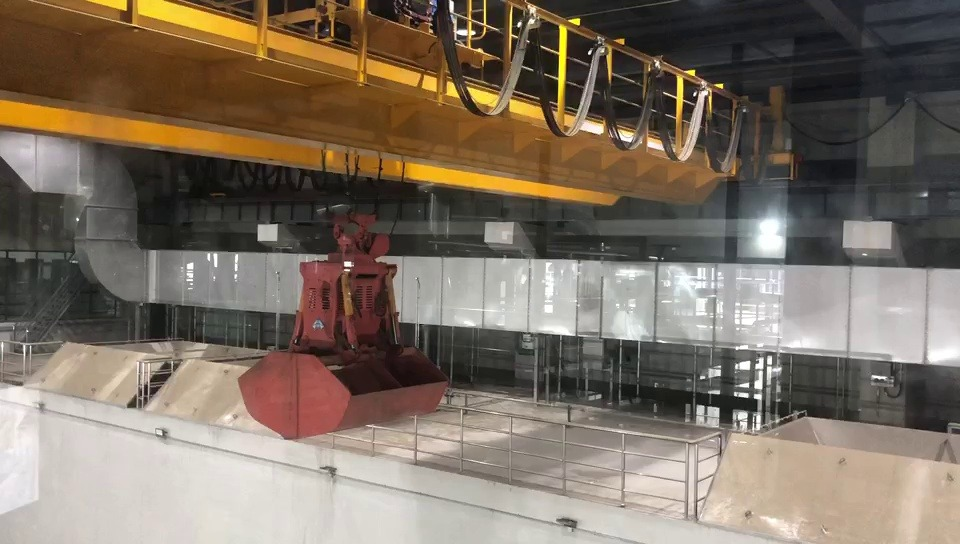grab: (232, 205, 452, 444)
